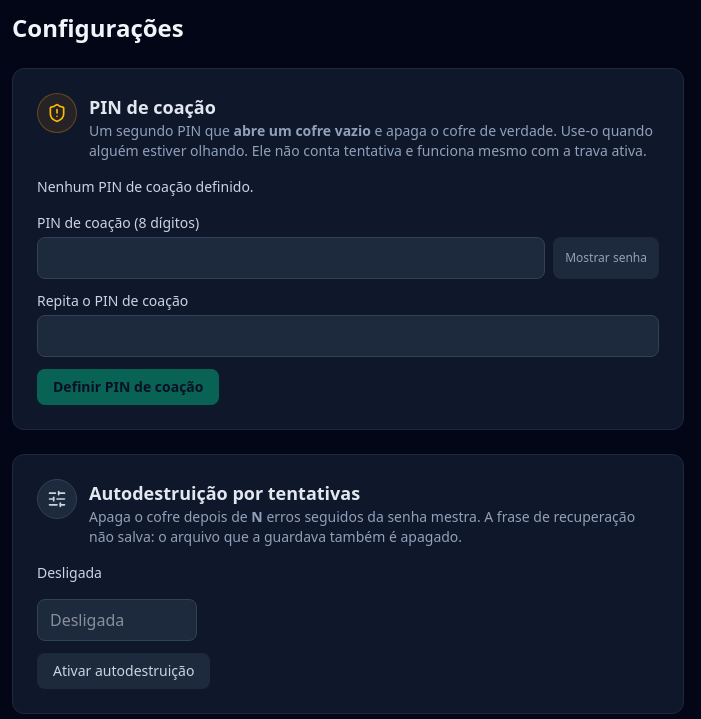
Configurações: PIN de pânico › exige confirmação do PIN antes de enviar
In the password field labelled "PIN de coação (8 dígitos)": (291, 258) [37,237,545,279], type "73910456"
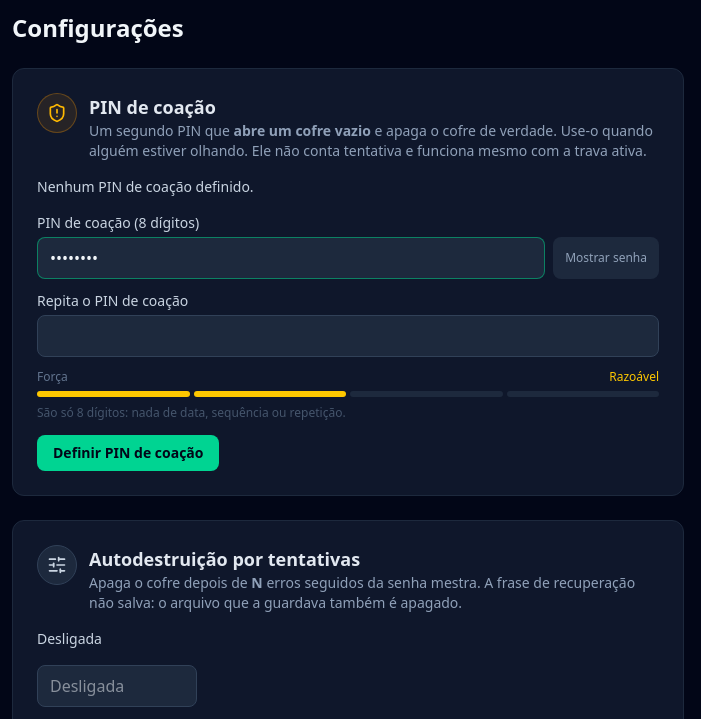
In the password field labelled "Repita o PIN de coação": (348, 336) [37,315,659,357], type "73910457"
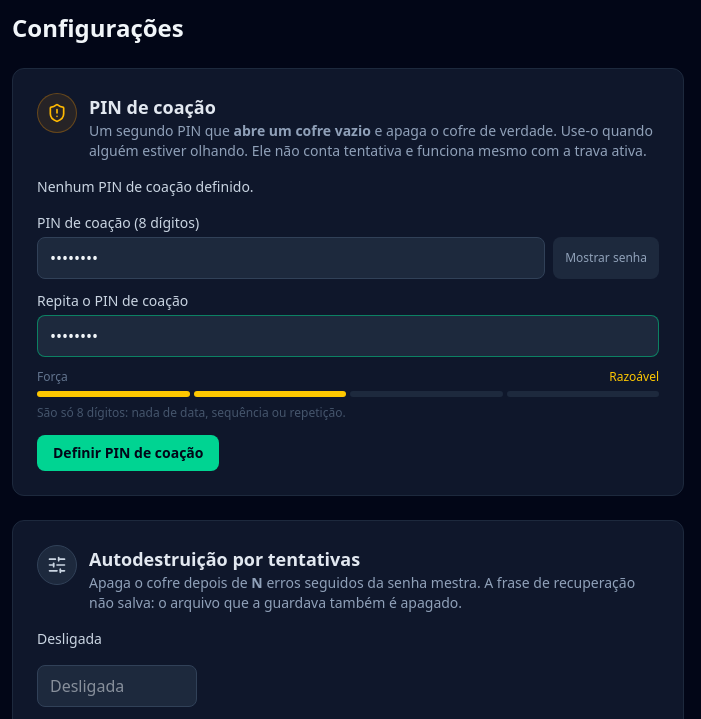
Click the button "Definir PIN de coação": (128, 452) [37,434,220,470]
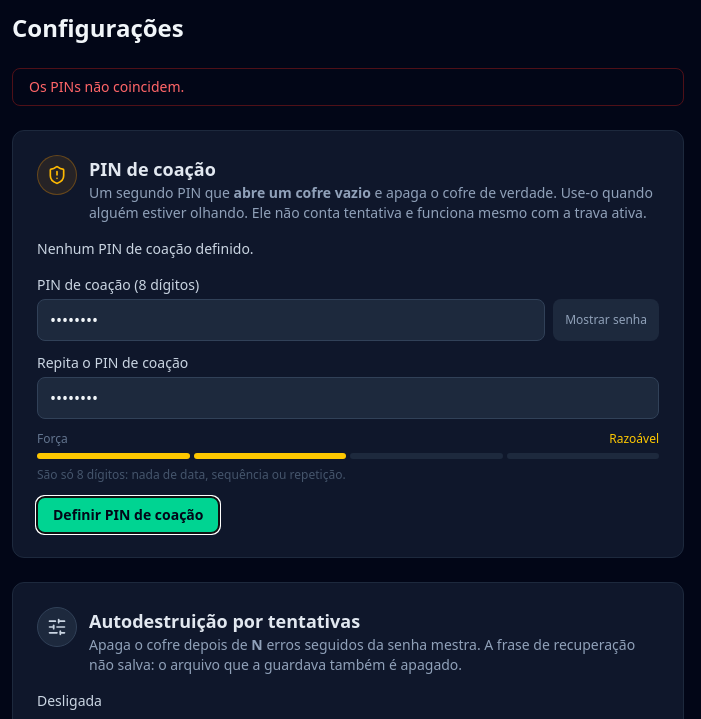
Result: the text "Os PINs não coincidem." is shown at [12,68,684,106]
